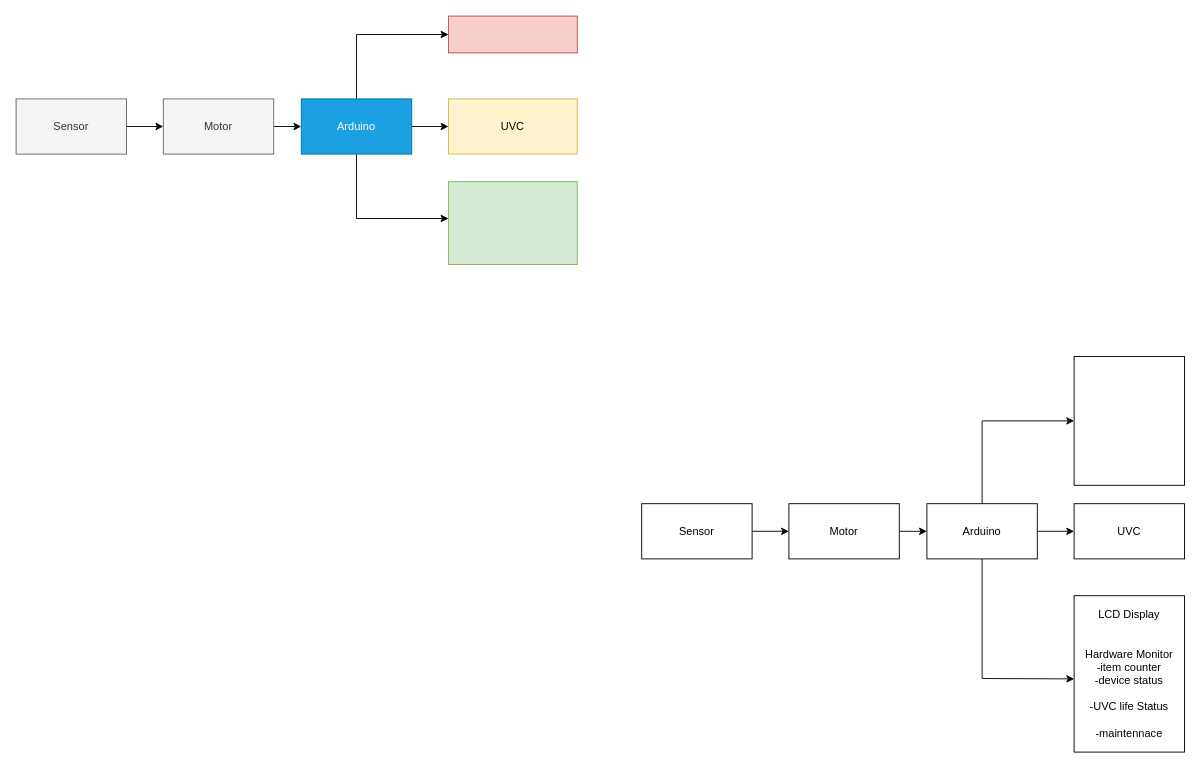
Some shapes in this 1201 by 768 pixel diagram are drawn without their labels. Here are the shapes that lost their labels. From the top down, the centre of each, then its label:
At [512,34]: "GSM Module (Admin Side)".
At [512,222]: "LCD Display Hardware Monitor Device Stats".
At [1128,420]: "GSM Module -Sa Admin lang -send status ng device sa admin - yung laman ng lcd".
